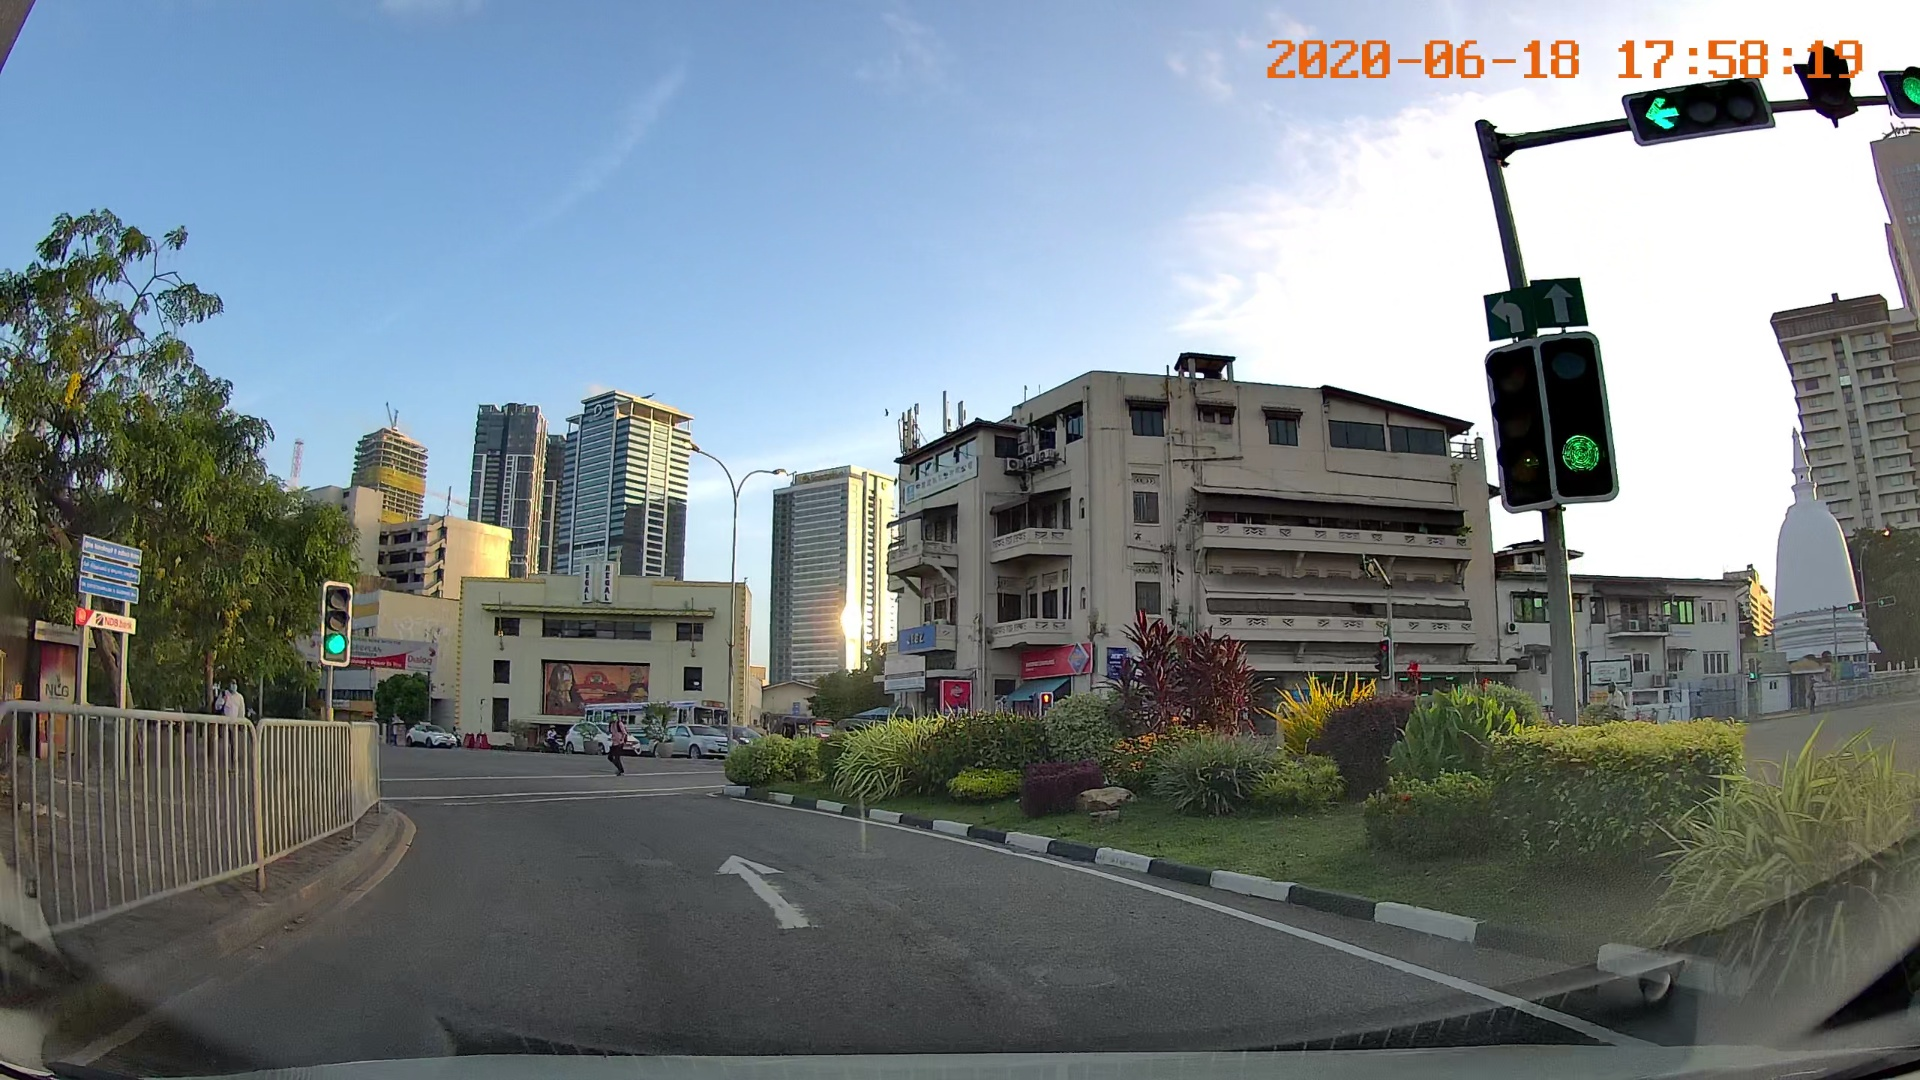arrow: (705, 839, 824, 945)
